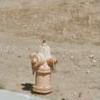Hydrant: (20, 34, 60, 97)
